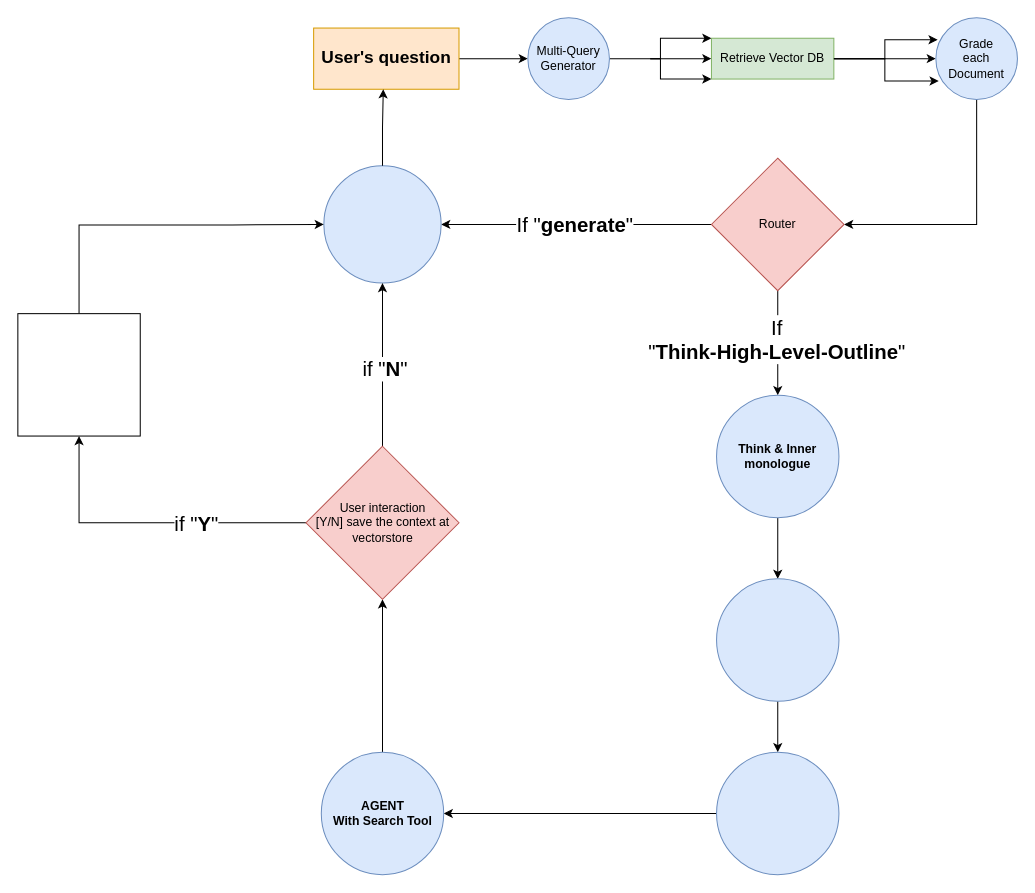
This 1035x893 diagram has some shape labels left out. The centre of each missing label's shape, as x and y in pixels:
"Create High-Level-Outline" goes at [777,639].
"Embedding content and save at VectorStore" goes at [78,374].
"Generate search queries and select/assign tools" goes at [777,813].
"Generation" goes at [382,224].
